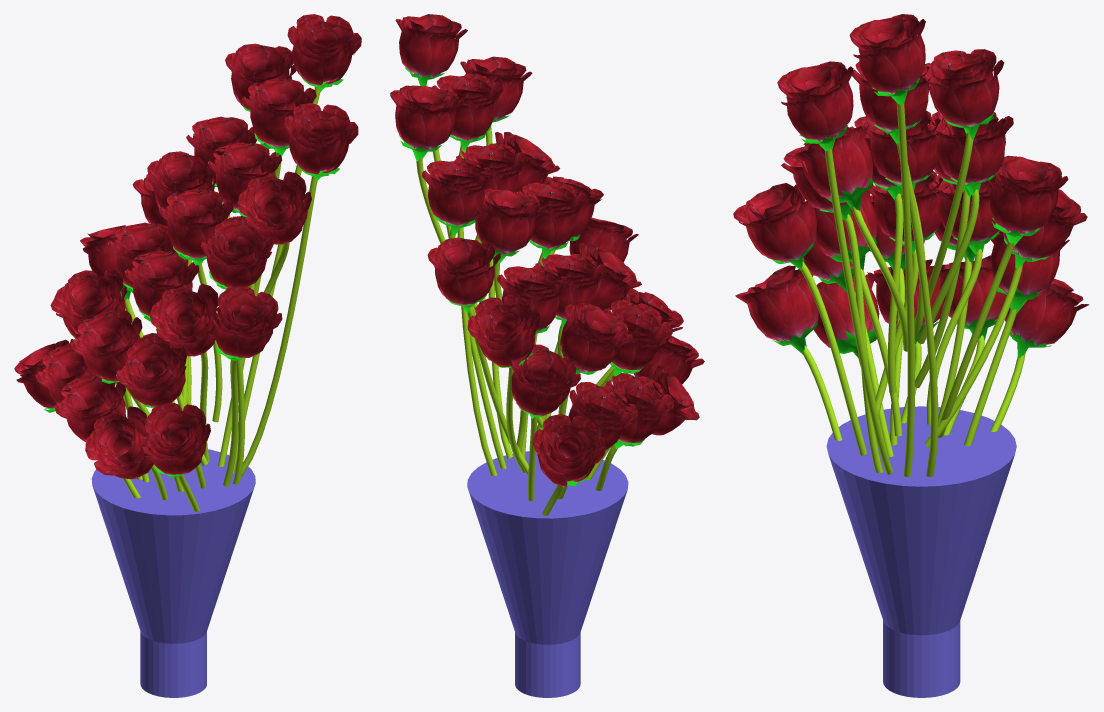
The model's file is rosaGlow2.gltf.
3 renders of one model, left to right at view 1: azimuth 30°, elevation 25°; view 2: azimuth 150°, elevation 25°; view 3: azimuth 270°, elevation 25°, orthographic. The views are drawn at different scales.
Parts seen in each view (by area): view 1: Cylinder, BezierCurve.025, Grid.218, BezierCurve.017, BezierCurve.019, Grid.154, Grid.134, Grid.101, Grid.317, Grid.045, Grid.250, Grid.415 (+25 smaller); view 2: Cylinder, BezierCurve.002, Grid.441, BezierCurve.026, Grid.337, Grid.023, Grid.022, Grid.058, Grid.439, Grid.180, Grid.338, BezierCurve.016 (+30 smaller); view 3: Cylinder, BezierCurve.026, BezierCurve.025, BezierCurve.002, Grid.242, BezierCurve.017, BezierCurve.019, BezierCurve.016, Grid.093, BezierCurve.018, BezierCurve.021, Grid.293 (+48 smaller).
Boxes of the visible parts, <box> form: Cylinder: <box>91,449,255,697</box>; BezierCurve.025: <box>241,176,317,476</box>; Grid.218: <box>129,343,172,382</box>; BezierCurve.017: <box>223,359,238,486</box>; BezierCurve.019: <box>233,359,244,484</box>; Grid.154: <box>84,316,127,354</box>; Grid.134: <box>68,379,111,417</box>; Grid.101: <box>255,179,293,223</box>; Grid.317: <box>216,223,258,258</box>; Grid.045: <box>257,109,290,146</box>; Grid.250: <box>152,411,192,449</box>; Grid.415: <box>167,291,205,336</box>; Cylinder: <box>467,451,628,697</box>; BezierCurve.002: <box>457,145,497,475</box>; Grid.441: <box>403,26,431,76</box>; BezierCurve.026: <box>426,83,506,468</box>; Grid.337: <box>499,214,529,254</box>; Grid.023: <box>396,103,425,148</box>; Grid.022: <box>421,109,451,149</box>; Grid.058: <box>432,185,464,225</box>; Grid.439: <box>417,35,457,77</box>; Grid.180: <box>562,321,588,368</box>; Grid.338: <box>476,205,502,251</box>; BezierCurve.016: <box>467,307,528,473</box>; Cylinder: <box>826,406,1016,697</box>; BezierCurve.026: <box>896,103,914,476</box>; BezierCurve.025: <box>824,148,892,474</box>; BezierCurve.002: <box>896,140,938,476</box>; Grid.242: <box>767,278,812,342</box>; BezierCurve.017: <box>800,262,866,455</box>; BezierCurve.019: <box>845,214,883,472</box>; BezierCurve.016: <box>938,242,1014,437</box>; Grid.093: <box>821,134,867,193</box>; BezierCurve.018: <box>925,264,1022,447</box>; BezierCurve.021: <box>887,193,903,393</box>; Grid.293: <box>765,209,810,262</box>.
Size of the model in its own units: 0.9283 by 1.99 by 0.8735.
Materials: 216 (165 with a texture image).
